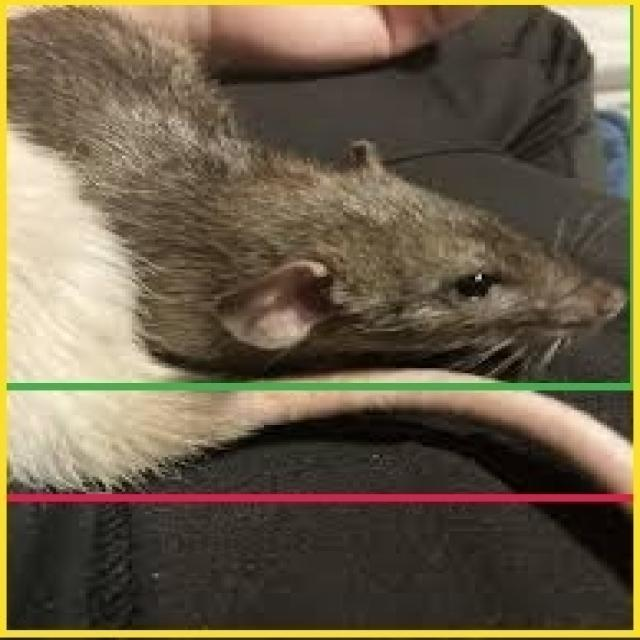rat: (0, 1, 640, 634), (0, 0, 637, 497), (0, 0, 633, 385)
